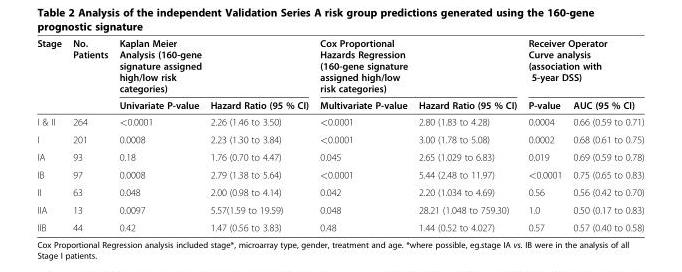table: (36, 37, 643, 232)
table column: (203, 37, 313, 232), (412, 37, 521, 232), (313, 37, 412, 232), (112, 37, 203, 232), (566, 37, 643, 232), (66, 37, 112, 232), (521, 37, 566, 232), (36, 37, 66, 232)
table column header: (36, 37, 643, 113)
table row: (36, 37, 643, 96), (36, 147, 643, 165), (36, 165, 643, 183), (36, 200, 643, 218), (36, 96, 643, 113), (36, 113, 643, 130), (36, 130, 643, 147), (36, 183, 643, 200), (36, 218, 643, 232)
table spanning cell: (313, 37, 521, 96), (112, 37, 313, 96), (521, 37, 643, 96), (66, 37, 112, 113), (36, 37, 66, 113)
